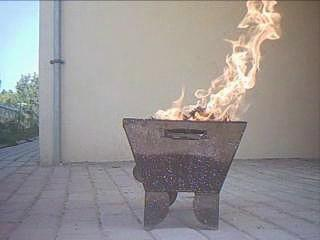fire: (234, 5, 264, 81), (167, 87, 241, 116)
